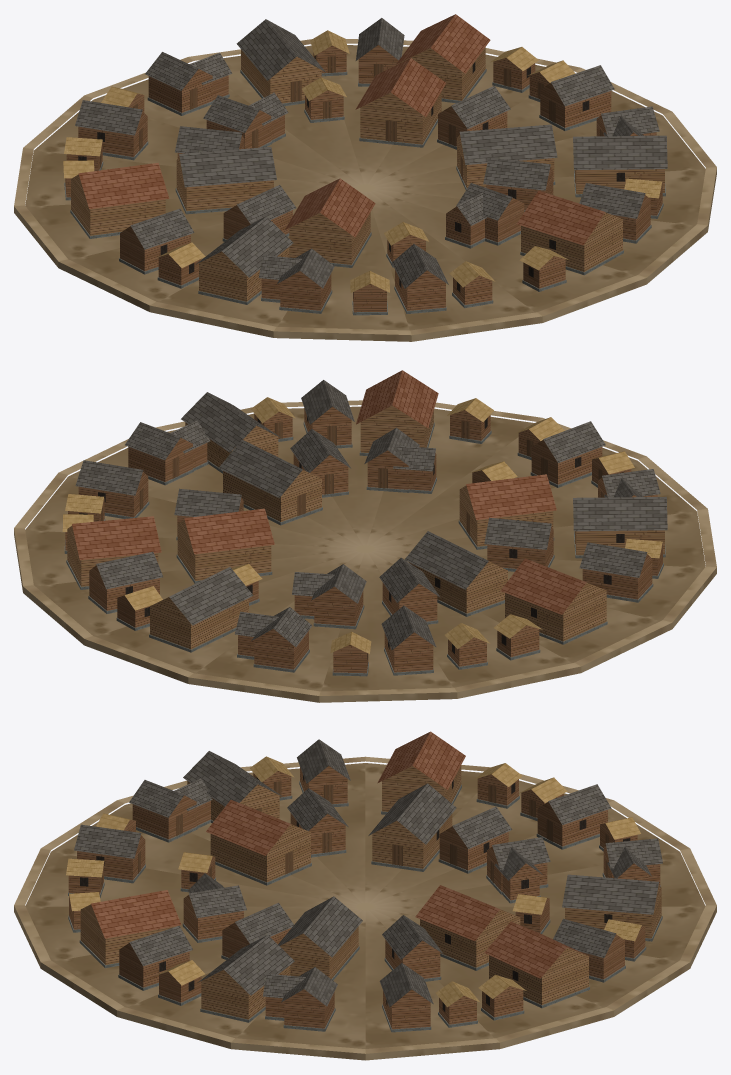
The model's file is ae_sand_village_large_lod2.glb.
3 renders of one model, top to bottom at view 1: azimuth 30°, elevation 25°; view 2: azimuth 150°, elevation 25°; view 3: azimuth 270°, elevation 25°, orthographic.
Parts seen in each view (by area): view 1: ae_sand_village_large_lod2; view 2: ae_sand_village_large_lod2; view 3: ae_sand_village_large_lod2.
Part boxes in pixels (<box>): ae_sand_village_large_lod2: <box>14,14,716,341</box>; ae_sand_village_large_lod2: <box>14,370,716,702</box>; ae_sand_village_large_lod2: <box>14,731,716,1060</box>.
Size of the model in its own units: 1.9 by 0.1715 by 1.9.
1 material, 1 textured.
